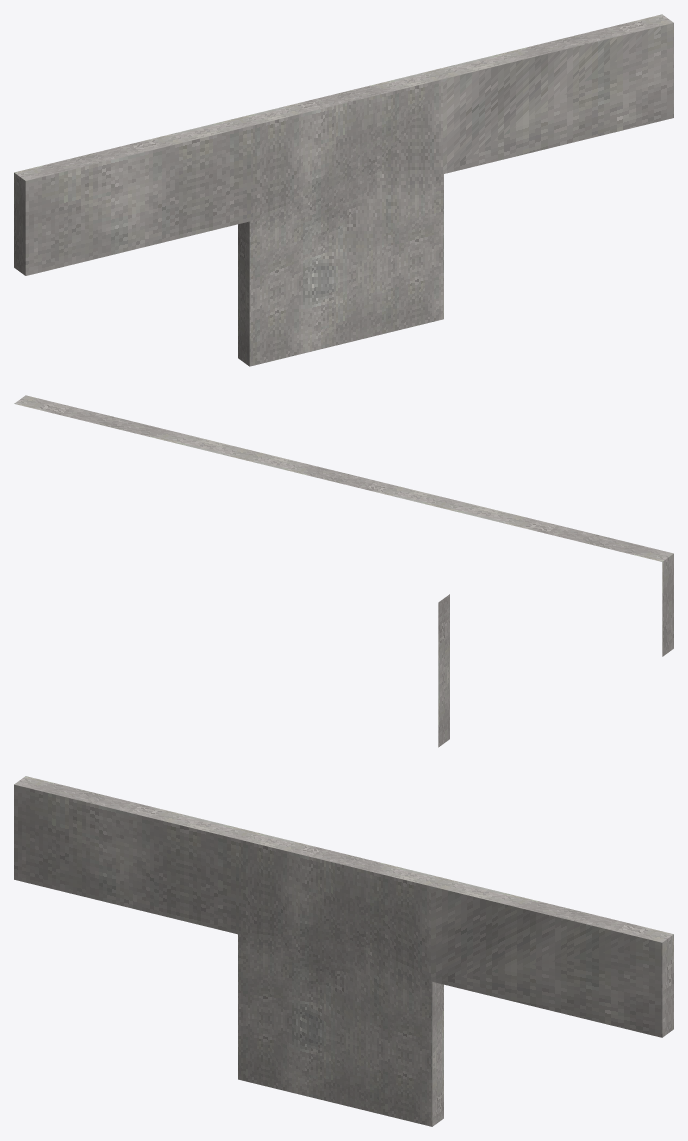
File: jc-sj-372-geode.glb
3 views of the same model, one above another, from view 1: azimuth 30°, elevation 25°; view 2: azimuth 150°, elevation 25°; view 3: azimuth 330°, elevation 25° (orthographic).
Visible parts, largest first — view 1: Node; view 2: Node; view 3: Node.
Part boxes in pixels (x1,y1,x2,y2): Node: [14, 14, 673, 366]; Node: [14, 395, 673, 747]; Node: [14, 776, 673, 1126].
Bounding box in the file's own units: 4.78 × 1.69 × 0.1493.
1 material, 1 textured.
